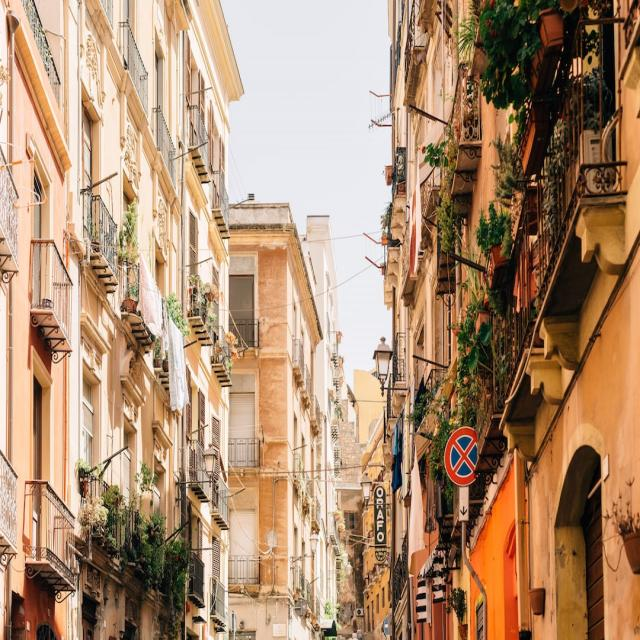no stopping: (445, 426, 478, 485)
